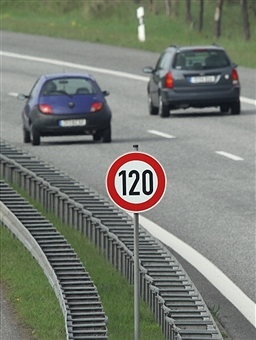Speed_limit_120km: (106, 151, 167, 212)
car: (138, 43, 245, 119), (15, 71, 115, 148)
